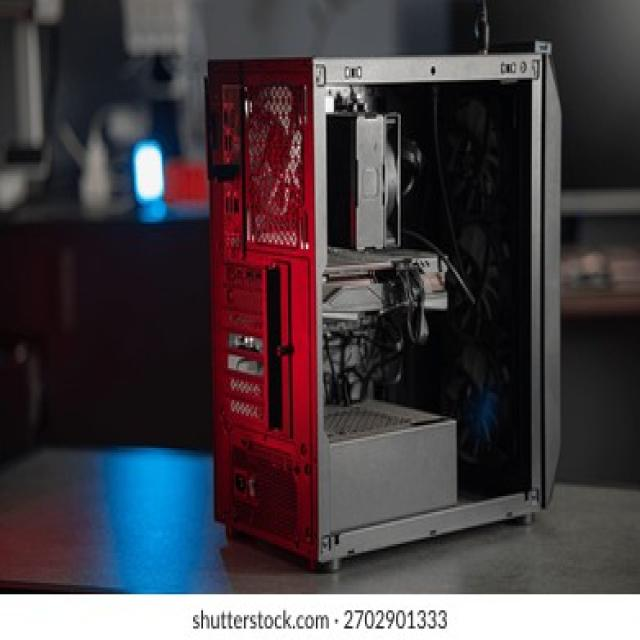electronics: (205, 48, 557, 560), (0, 213, 210, 446), (489, 0, 637, 208), (322, 245, 444, 400), (118, 0, 203, 206), (322, 400, 455, 526), (324, 400, 455, 526), (62, 105, 203, 219), (221, 261, 301, 432), (228, 82, 309, 245), (0, 0, 62, 208), (196, 0, 414, 57), (118, 0, 196, 158), (327, 89, 398, 249), (61, 101, 162, 213), (322, 245, 444, 318), (329, 112, 396, 242), (229, 437, 309, 544), (5, 0, 43, 160), (0, 336, 43, 459), (563, 245, 637, 315), (121, 0, 190, 53), (563, 245, 637, 290), (88, 101, 149, 149), (77, 130, 110, 206), (131, 139, 162, 219), (131, 139, 162, 203), (162, 160, 205, 203), (0, 0, 62, 21), (0, 165, 28, 206), (429, 2, 447, 43), (0, 382, 16, 427), (476, 0, 488, 50), (34, 0, 62, 21), (291, 288, 303, 297), (229, 96, 234, 105), (51, 206, 62, 210), (298, 306, 303, 313), (228, 526, 234, 530), (304, 366, 309, 370), (296, 469, 298, 473), (196, 101, 198, 105), (295, 325, 296, 329), (408, 41, 409, 44)
